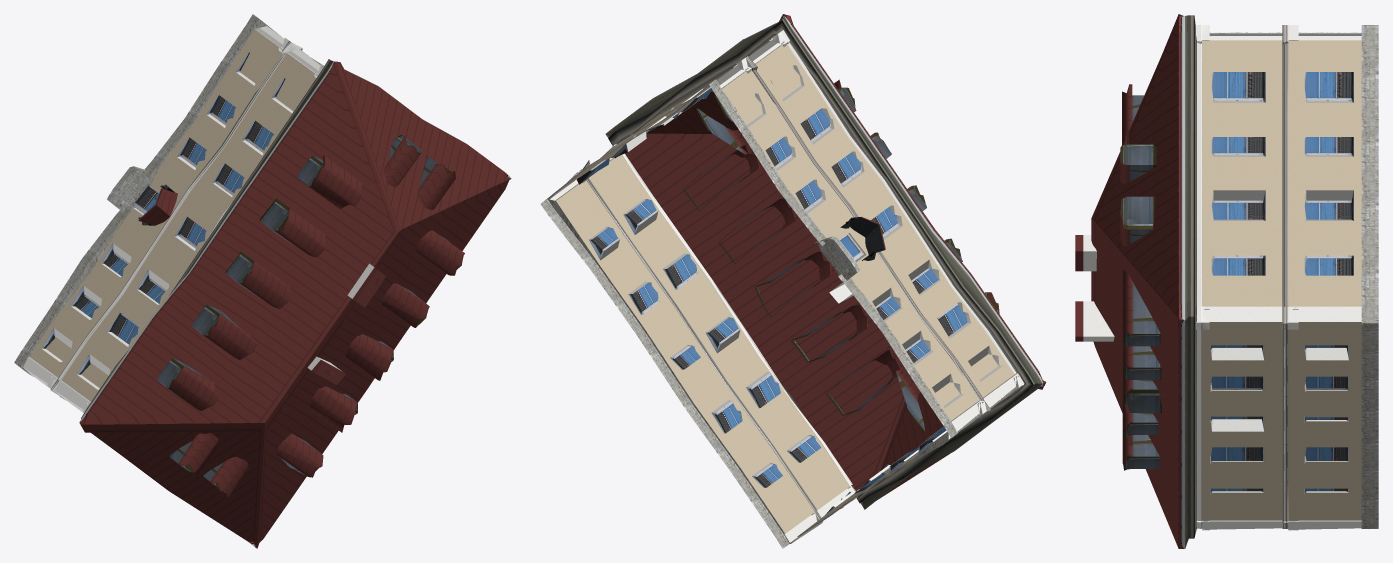
Rendered from Suurtyki_4b-origo.obj.
3 renders of one model, left to right at view 1: azimuth 30°, elevation 25°; view 2: azimuth 150°, elevation 25°; view 3: azimuth 270°, elevation 25°, orthographic. The views are drawn at different scales.
Visible parts, largest first — view 1: Suurtyki_4b; view 2: Suurtyki_4b; view 3: Suurtyki_4b.
Boxes of the visible parts, box(x1,y1,x2,y2) form: Suurtyki_4b: box(14, 14, 511, 548); Suurtyki_4b: box(540, 14, 1046, 548); Suurtyki_4b: box(1075, 14, 1378, 548).
Bounding box in the file's own units: 25.69 × 26.5 × 12.54.
